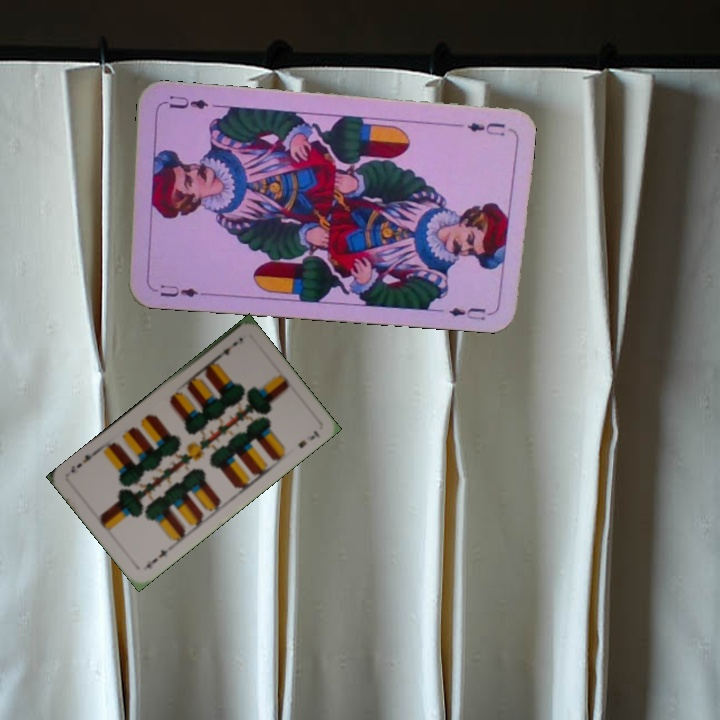E7: (142, 545, 171, 572), (212, 337, 241, 362)
EU: (148, 280, 207, 300), (463, 118, 508, 139)
